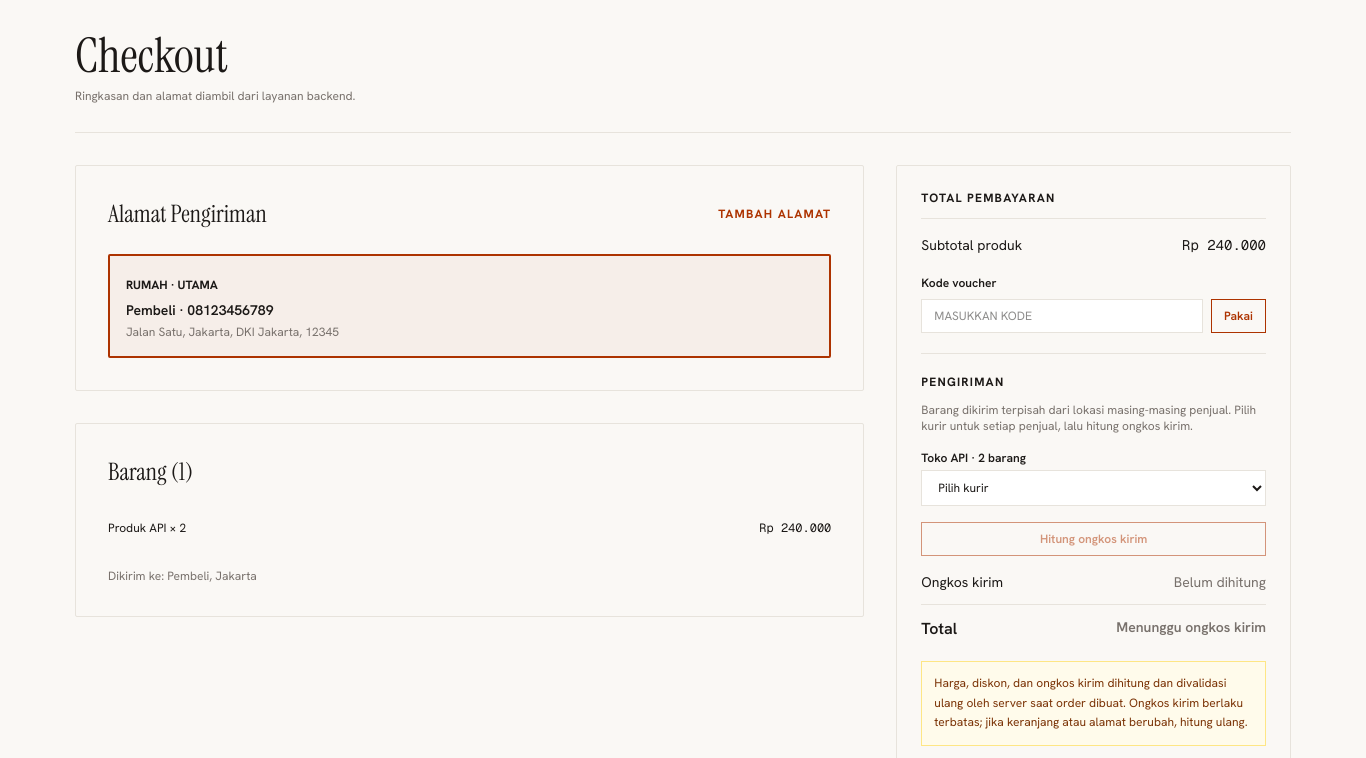
Test case: CheckoutPage › discards the quote when the courier choice changes
Select "JNE — REG" in the dropdown at (1094,488), box [921,470,1266,506]
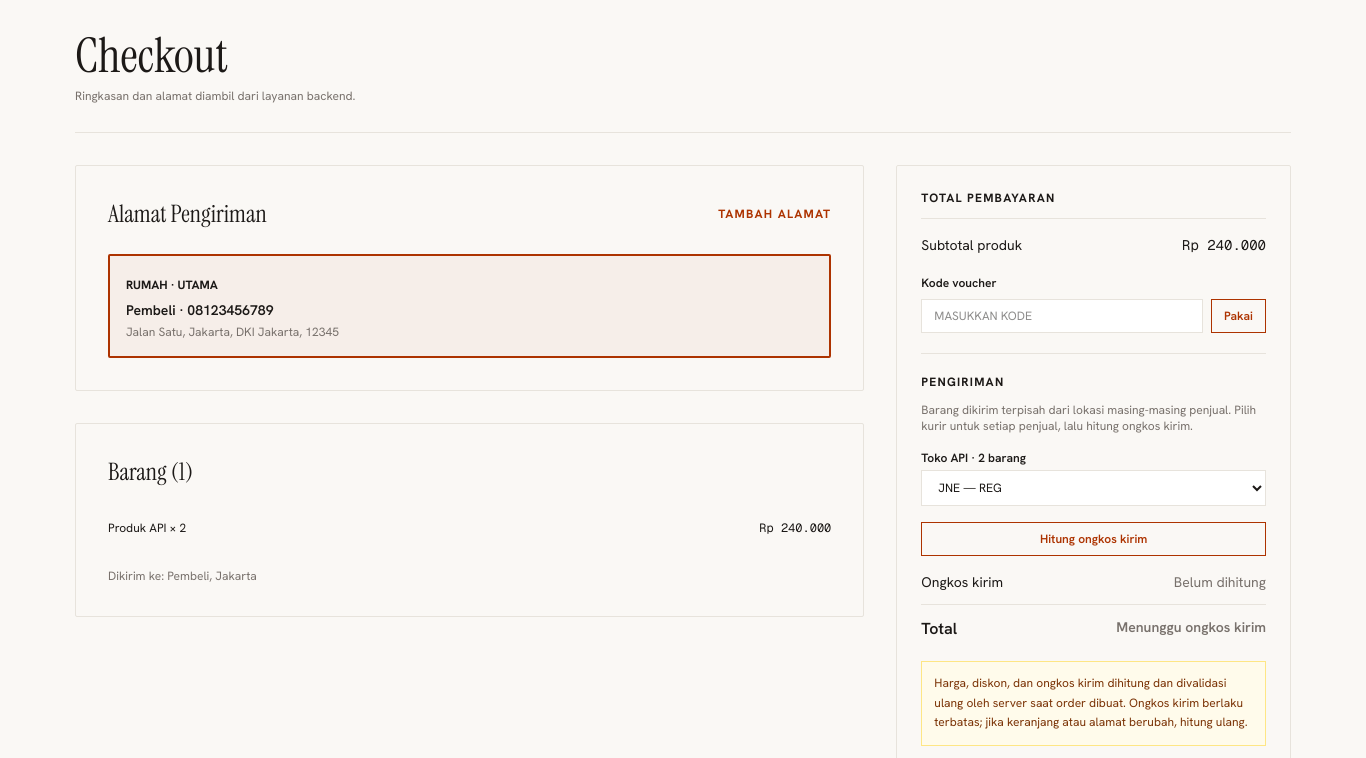
Click the button "Hitung ongkos kirim".
click(1094, 539)  # box [921,522,1266,556]
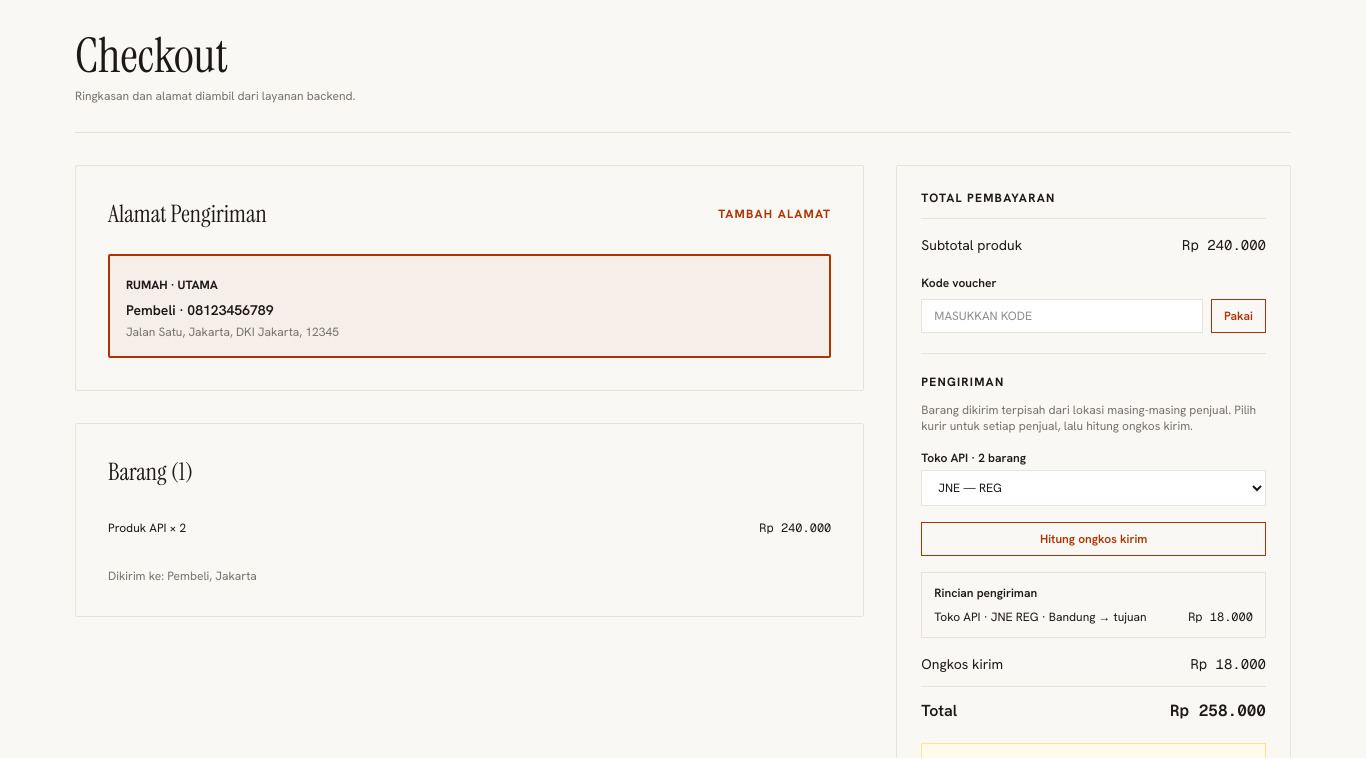
Select "Pilih kurir" in the dropdown at (1094,488), box [921,470,1266,506]
(page scrolled)
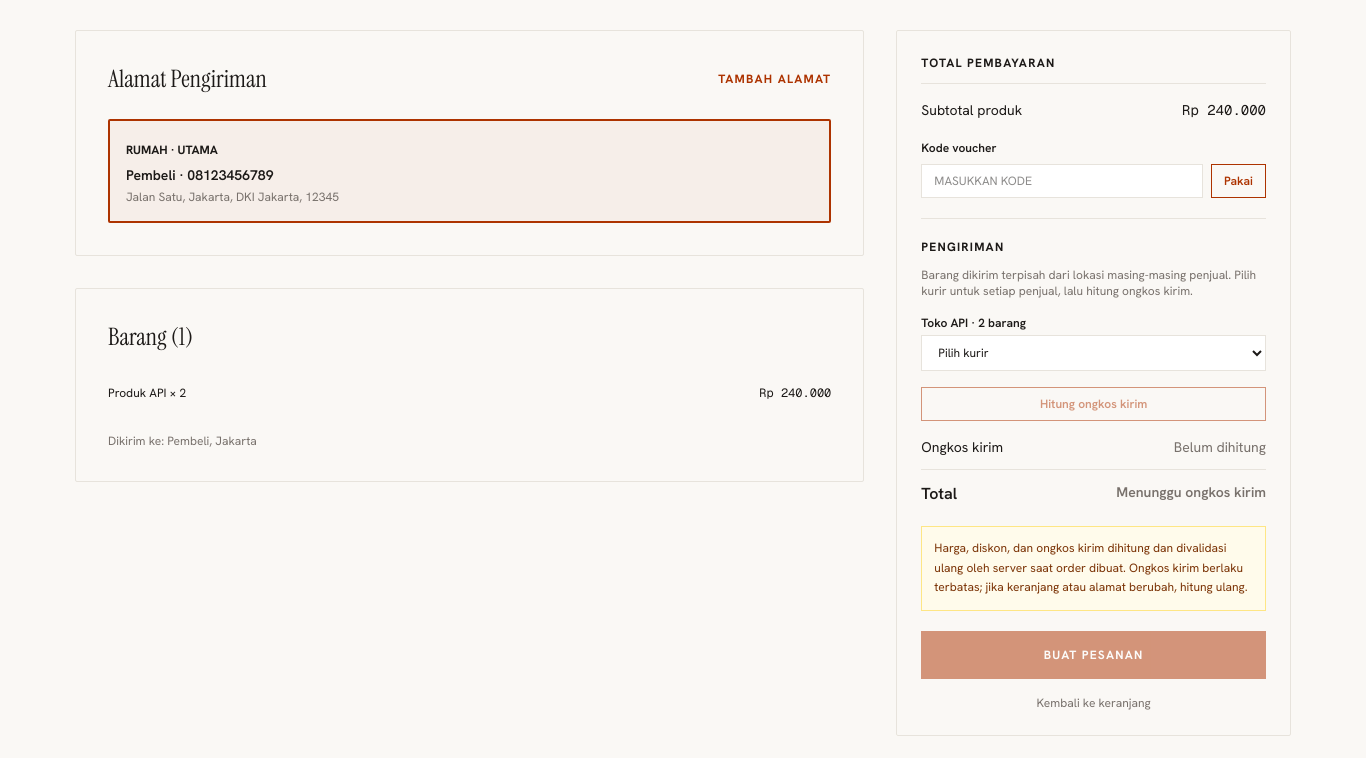
Check: the text "Belum dihitung" is shown, box [1174,437,1266,457]
Check: the button "Buat Pesanan" is disabled, box [921,630,1266,678]
